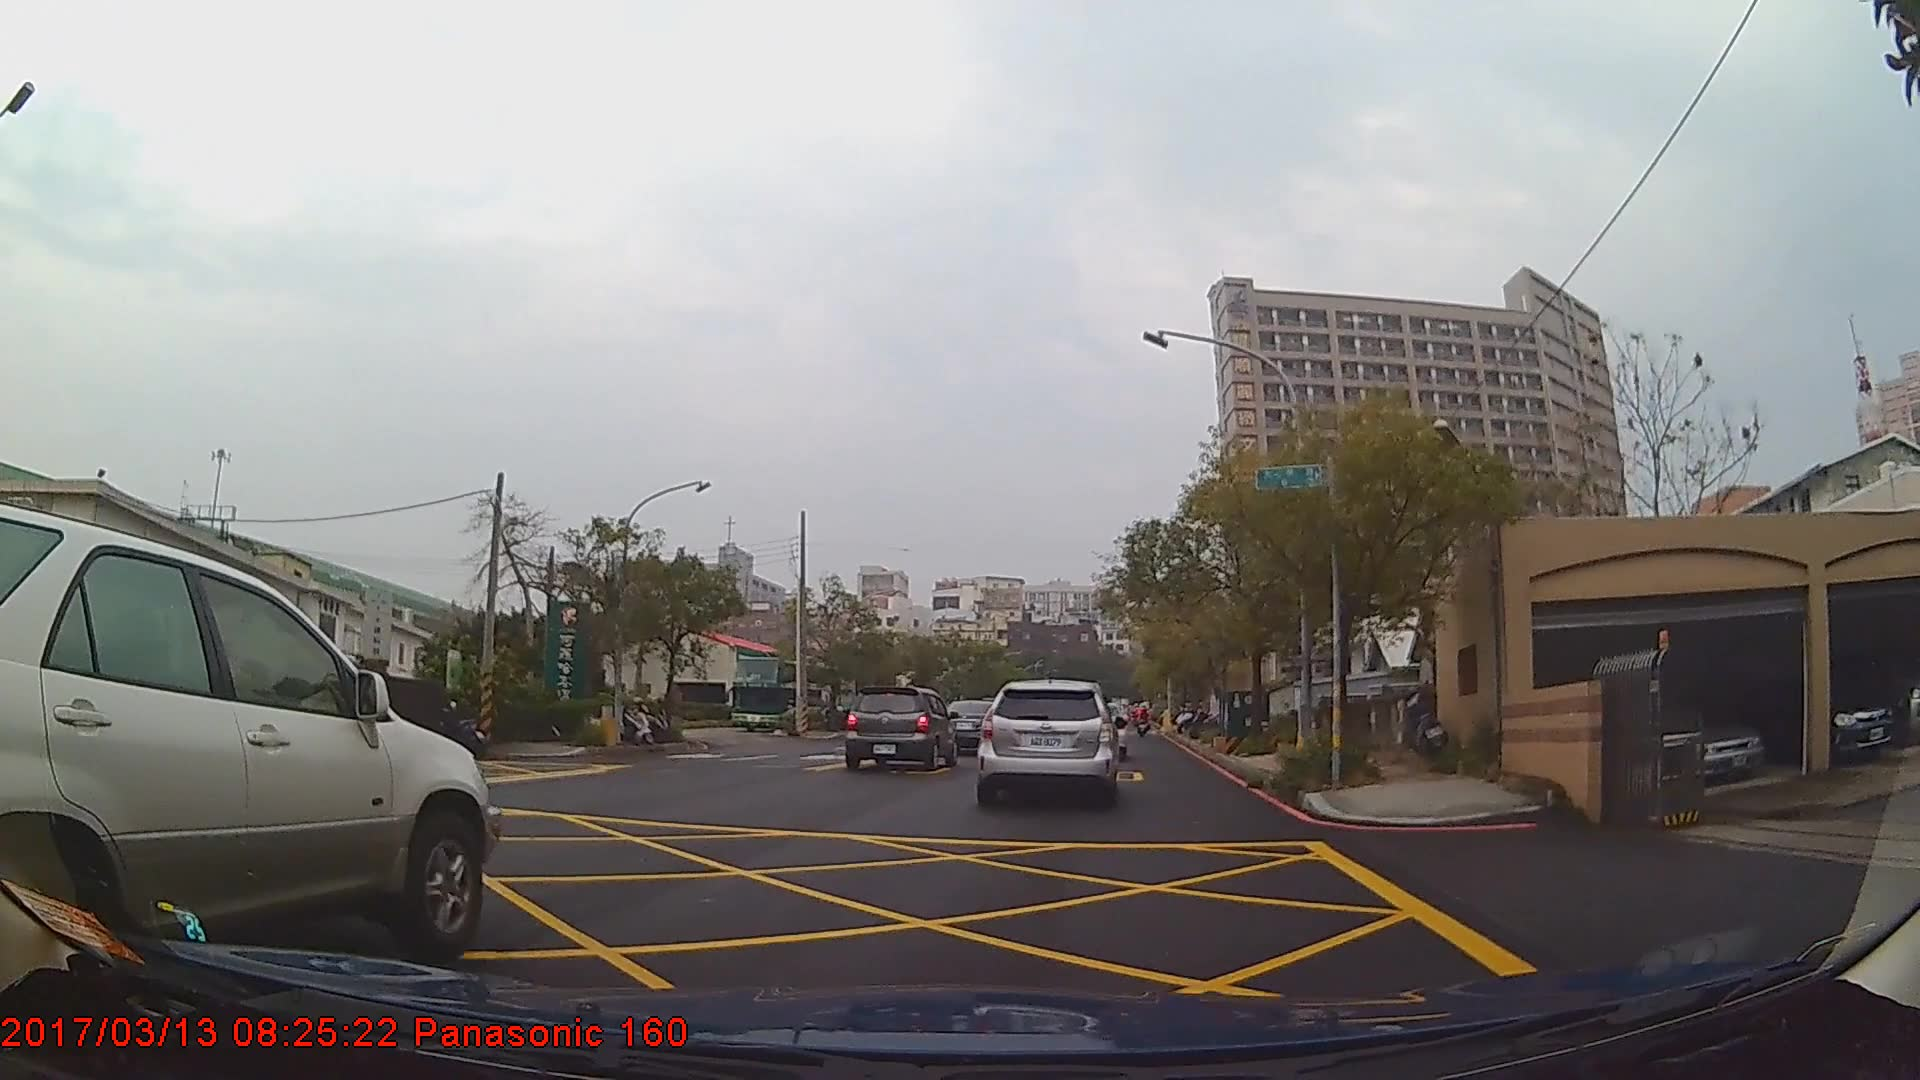vehicle: (0, 504, 500, 996), (975, 674, 1120, 802), (1638, 692, 1768, 783), (843, 682, 957, 767), (729, 654, 841, 731), (938, 696, 1005, 752)
